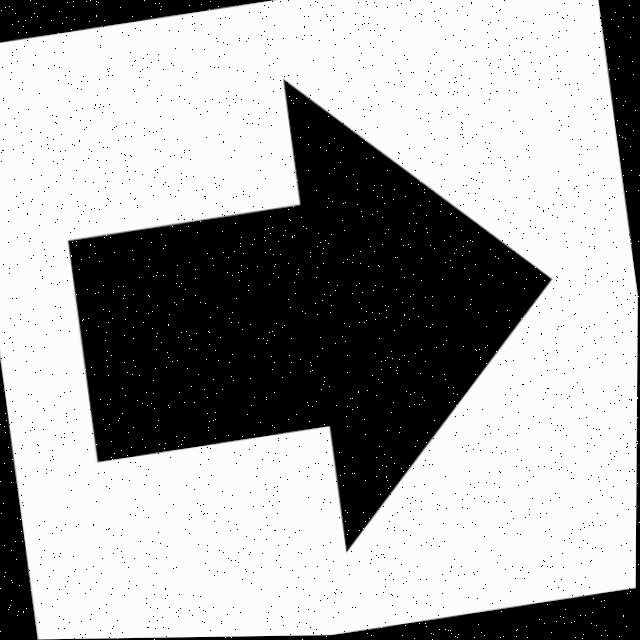RIGHT: (70, 83, 551, 548)
